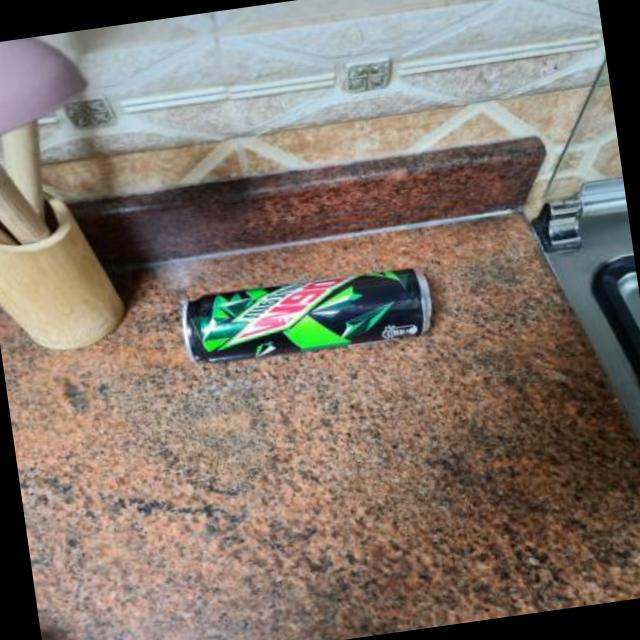metal: (185, 267, 434, 358)
